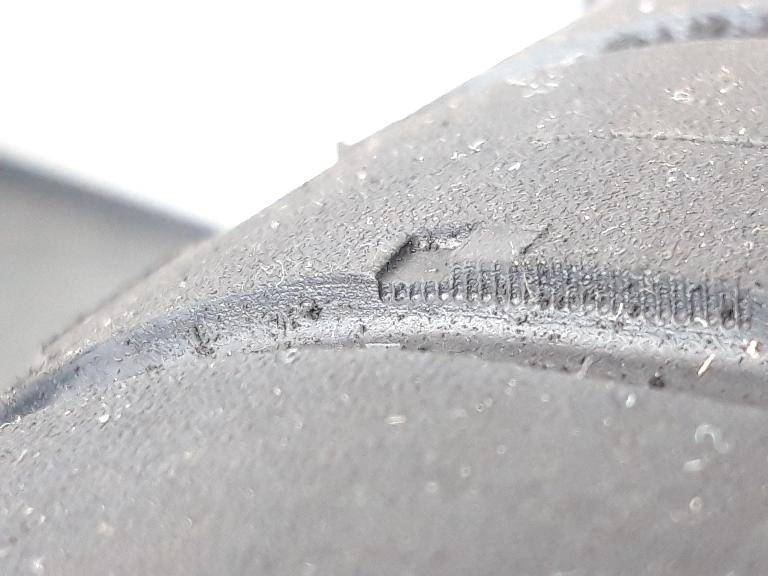temoin:25: (364, 212, 556, 326)
